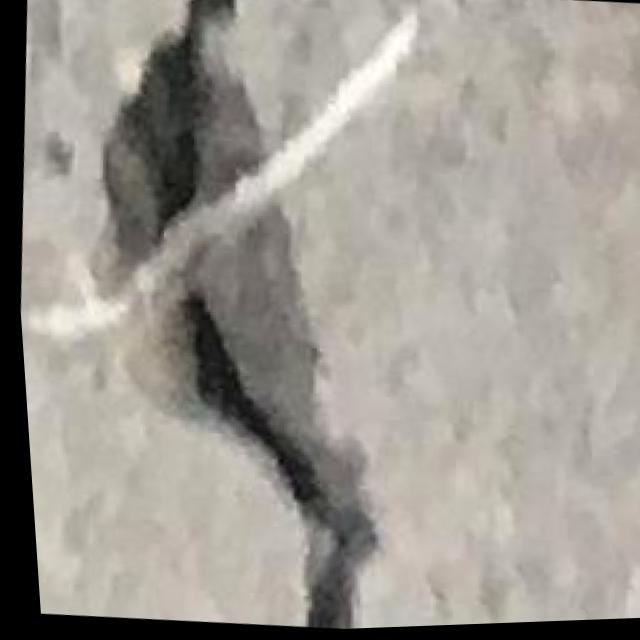Crack: (38, 0, 431, 639)
